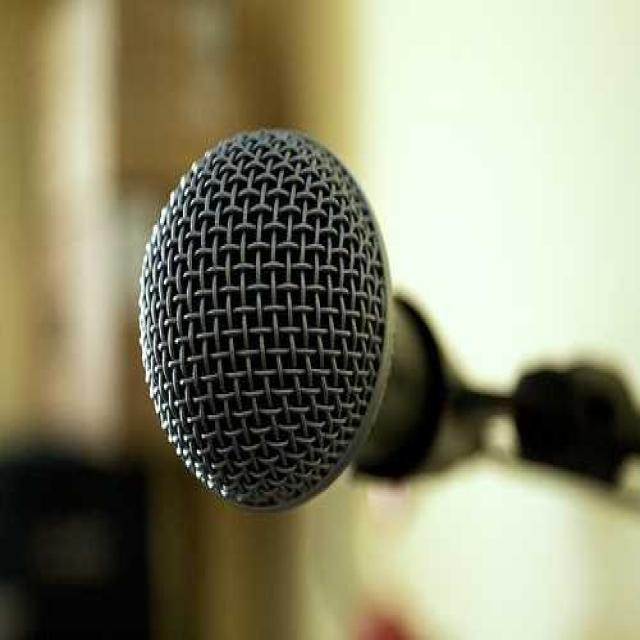microphone: (143, 132, 629, 524)
